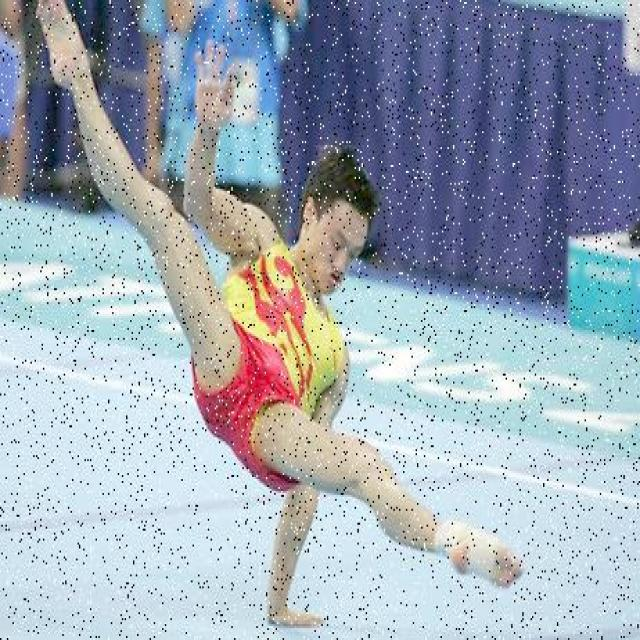fall: (57, 34, 471, 574)
